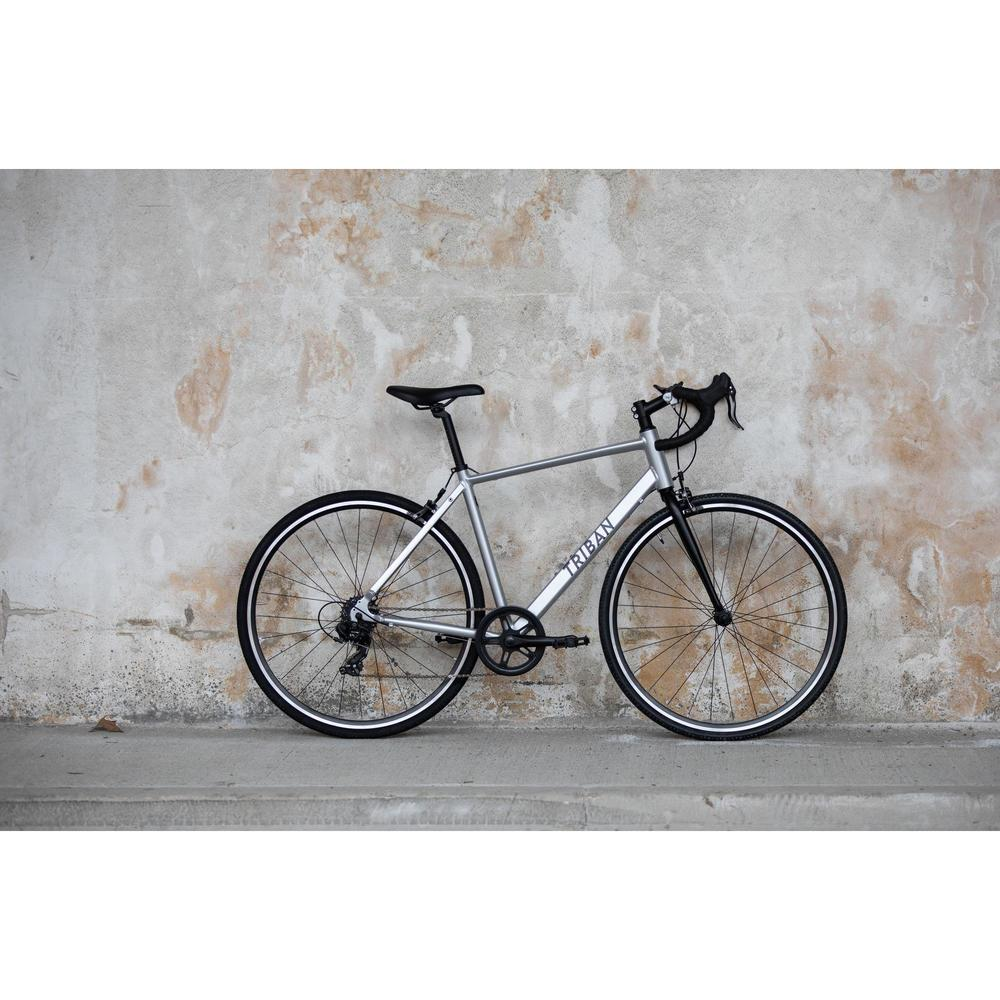RoadBike: (236, 350, 855, 735)
